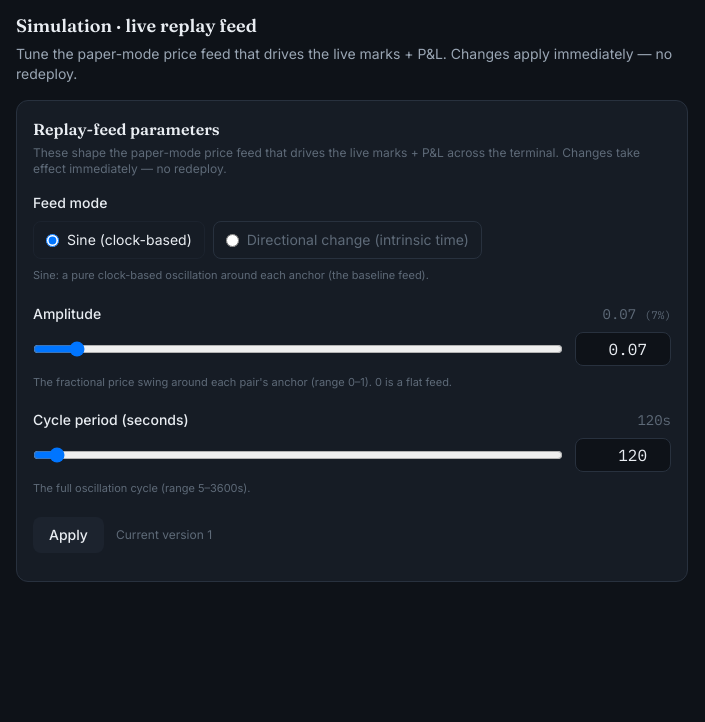
Test: SimulationSurface — read + tune the paper replay-feed parameters › renders the mode selector; δ control is hidden in sine mode and revealed in DC mode
The image size is (705, 722).
Expected: the radio button labelled "Sine (clock-based)" is shown, top-left (46, 234), bottom-right (59, 246)
Note: Switching to directional-change reveals the δ control.
Click the radio button labelled "Directional change (intrinsic time)" at {"x": 232, "y": 240}, box top-left (226, 234), bottom-right (239, 246)
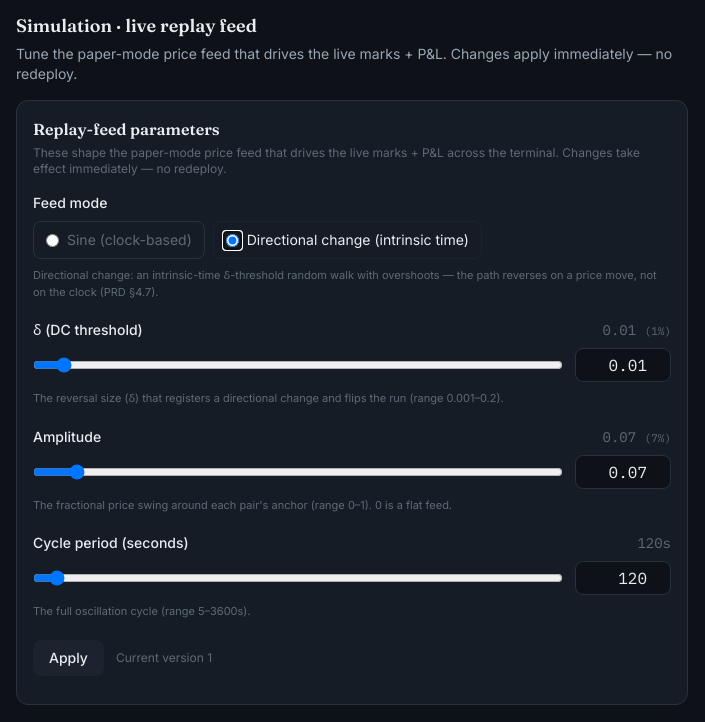
Expected: the number field named "DC threshold value" holds "0.01", top-left (575, 348), bottom-right (671, 382)
